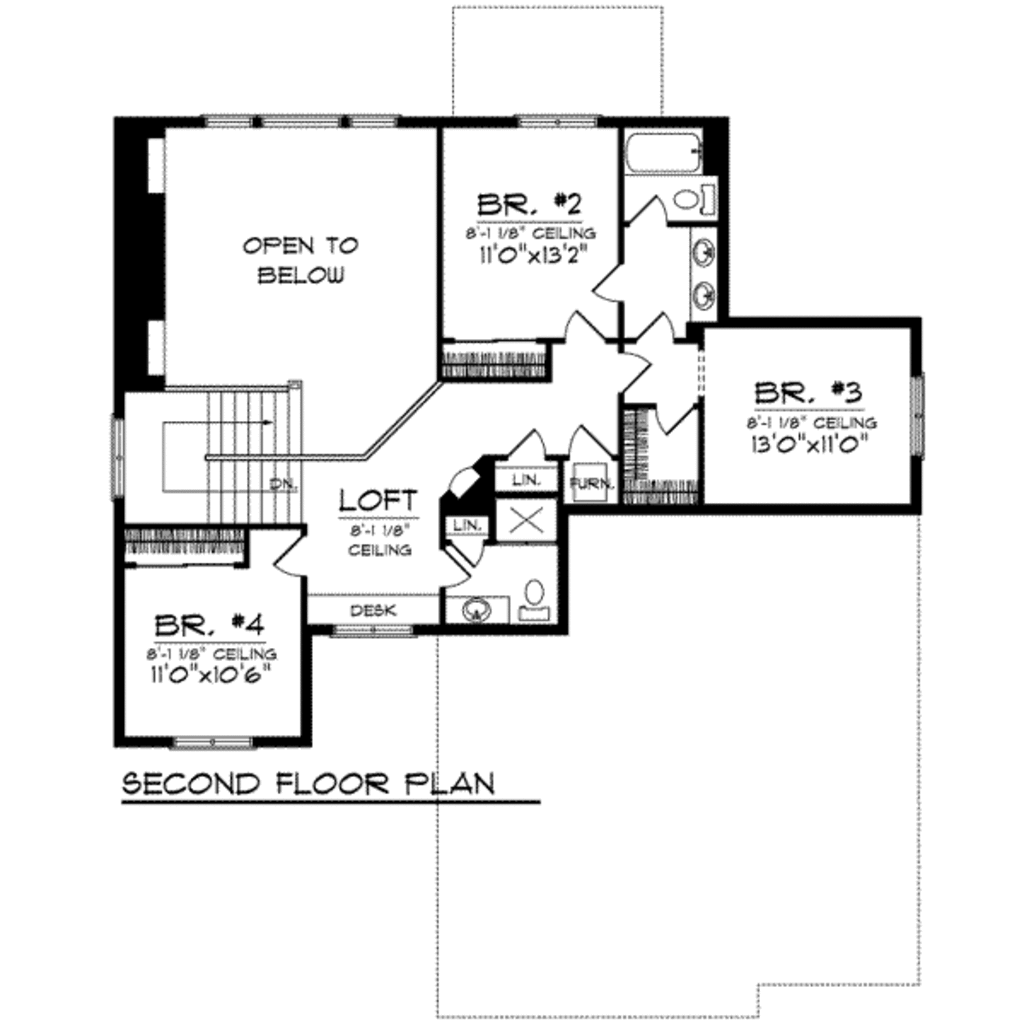door: (556, 303, 613, 358), (503, 411, 557, 463), (565, 419, 613, 465), (272, 530, 316, 579), (648, 400, 703, 436), (624, 187, 672, 227), (629, 306, 679, 344), (611, 349, 654, 393), (435, 544, 472, 593), (594, 263, 624, 300), (452, 532, 486, 563)
large_sink: (518, 574, 556, 627), (676, 184, 725, 216)
small_sink: (687, 228, 722, 330), (445, 589, 497, 625)
stairs: (124, 381, 303, 527)
tub: (624, 127, 698, 178)
window: (198, 105, 403, 130), (903, 374, 938, 451), (516, 116, 610, 139), (327, 624, 418, 646), (164, 732, 249, 755)
